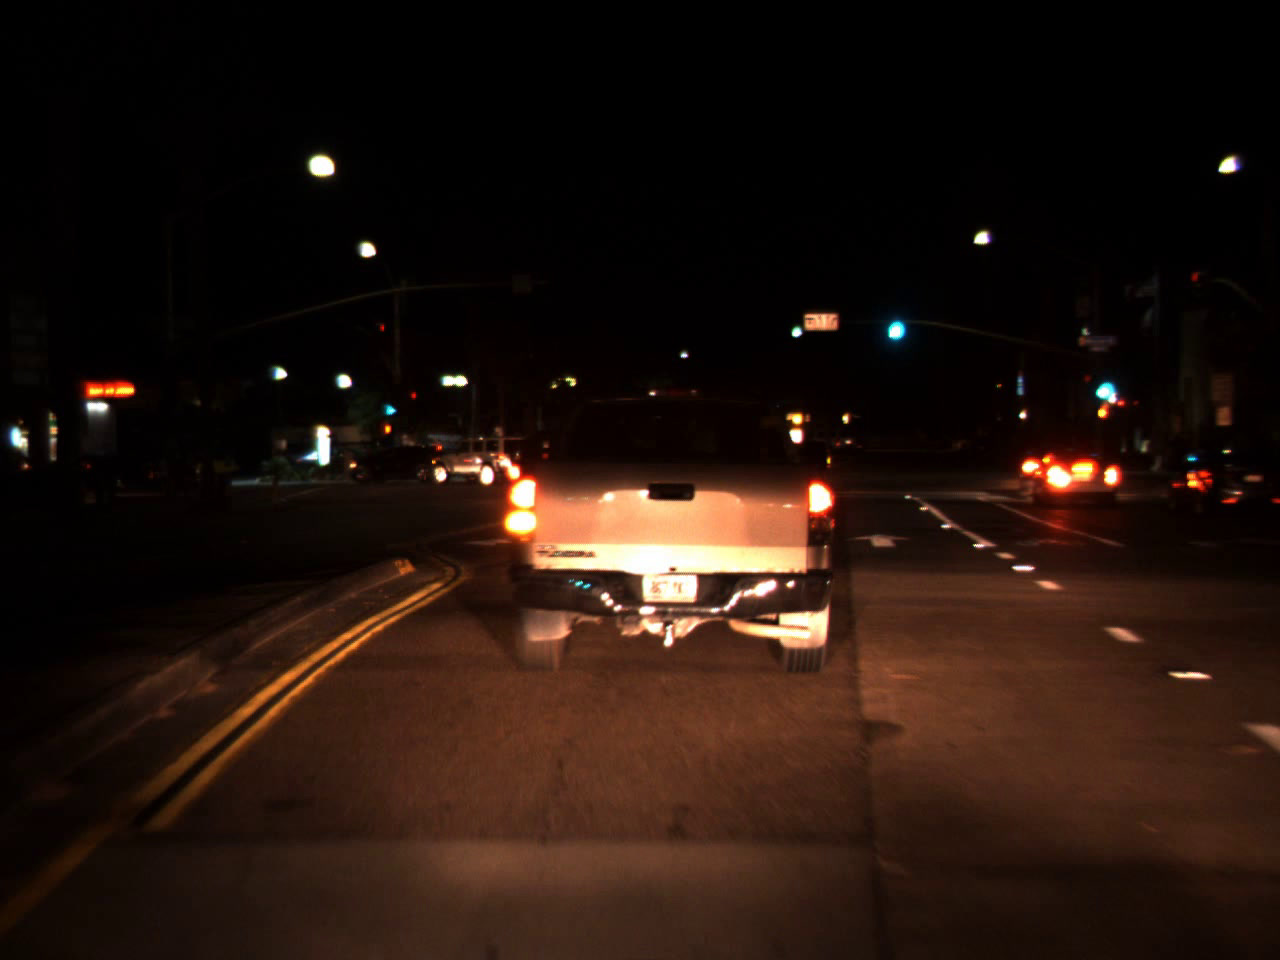go: (881, 298, 908, 346), (1087, 365, 1119, 401), (379, 387, 400, 423), (788, 313, 802, 340)
